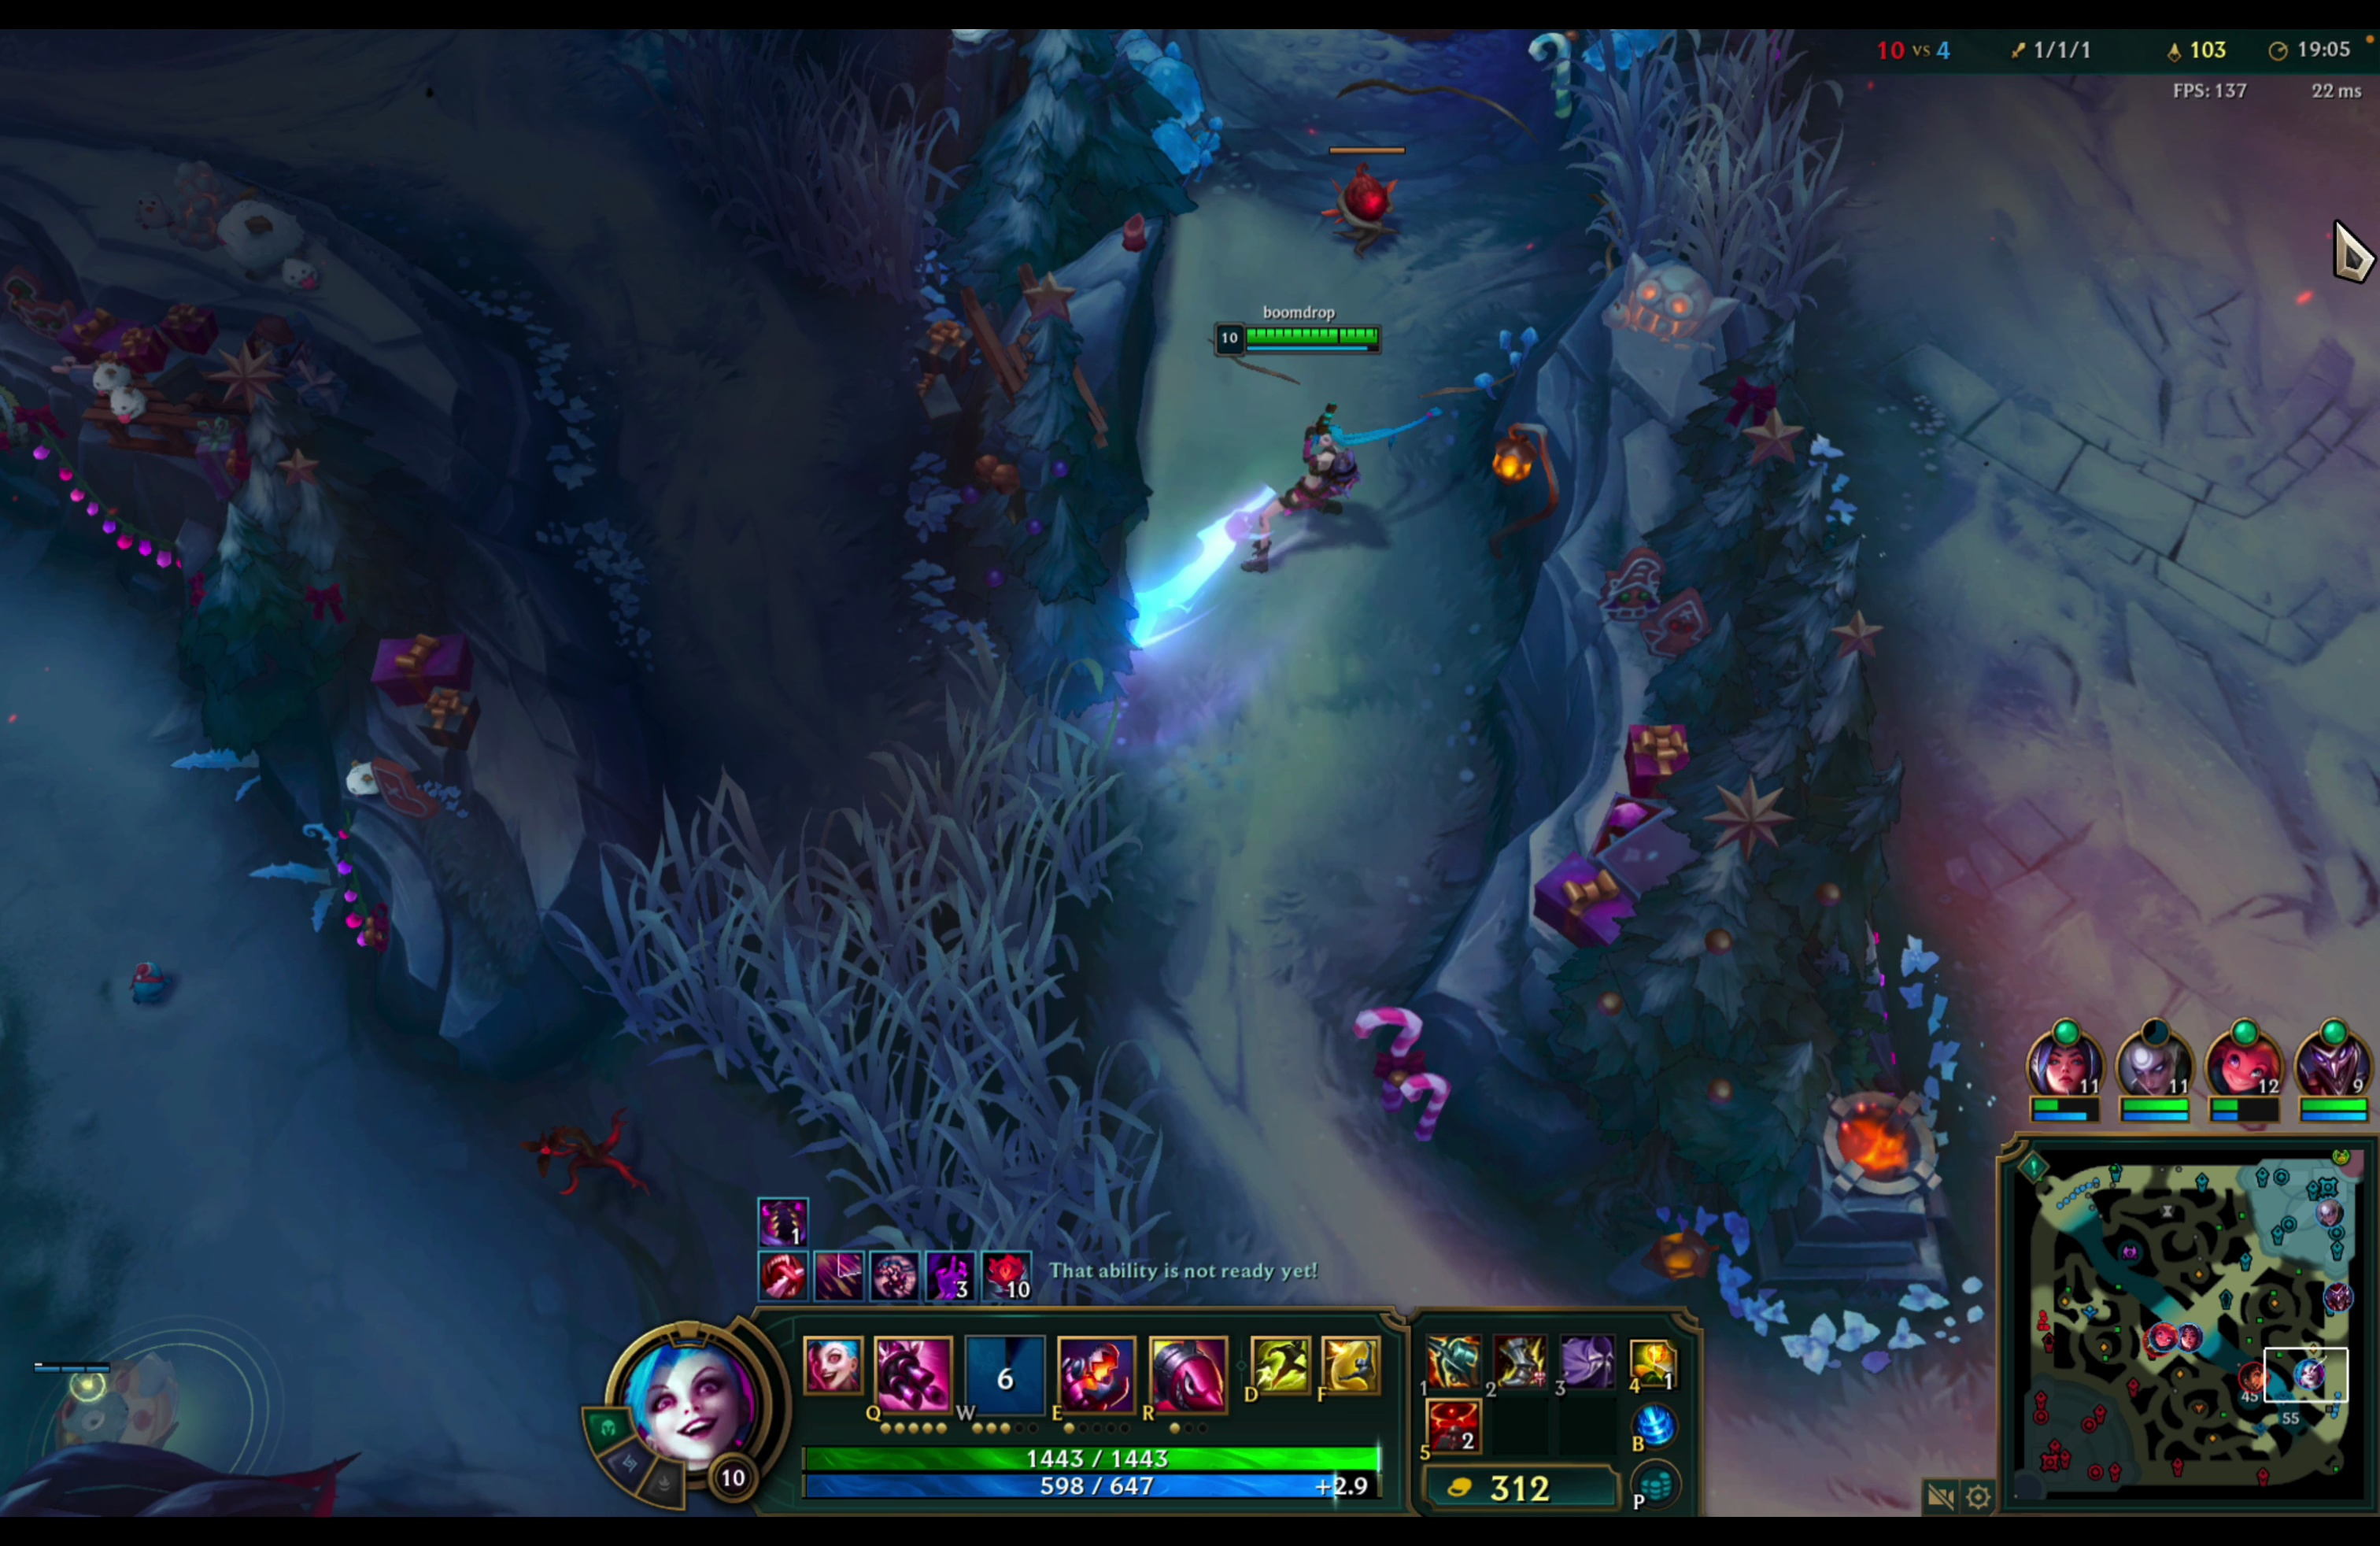JINX_W_PROJECTILE: (1115, 302, 1461, 671)
